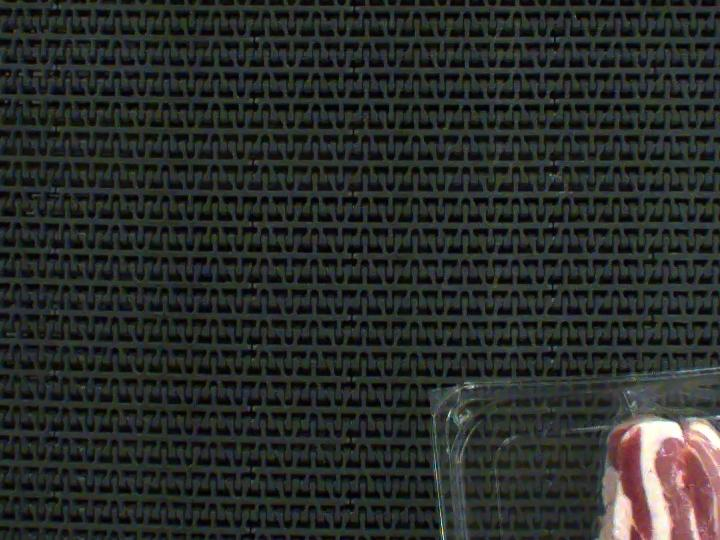unsealed: (589, 373, 720, 427)
